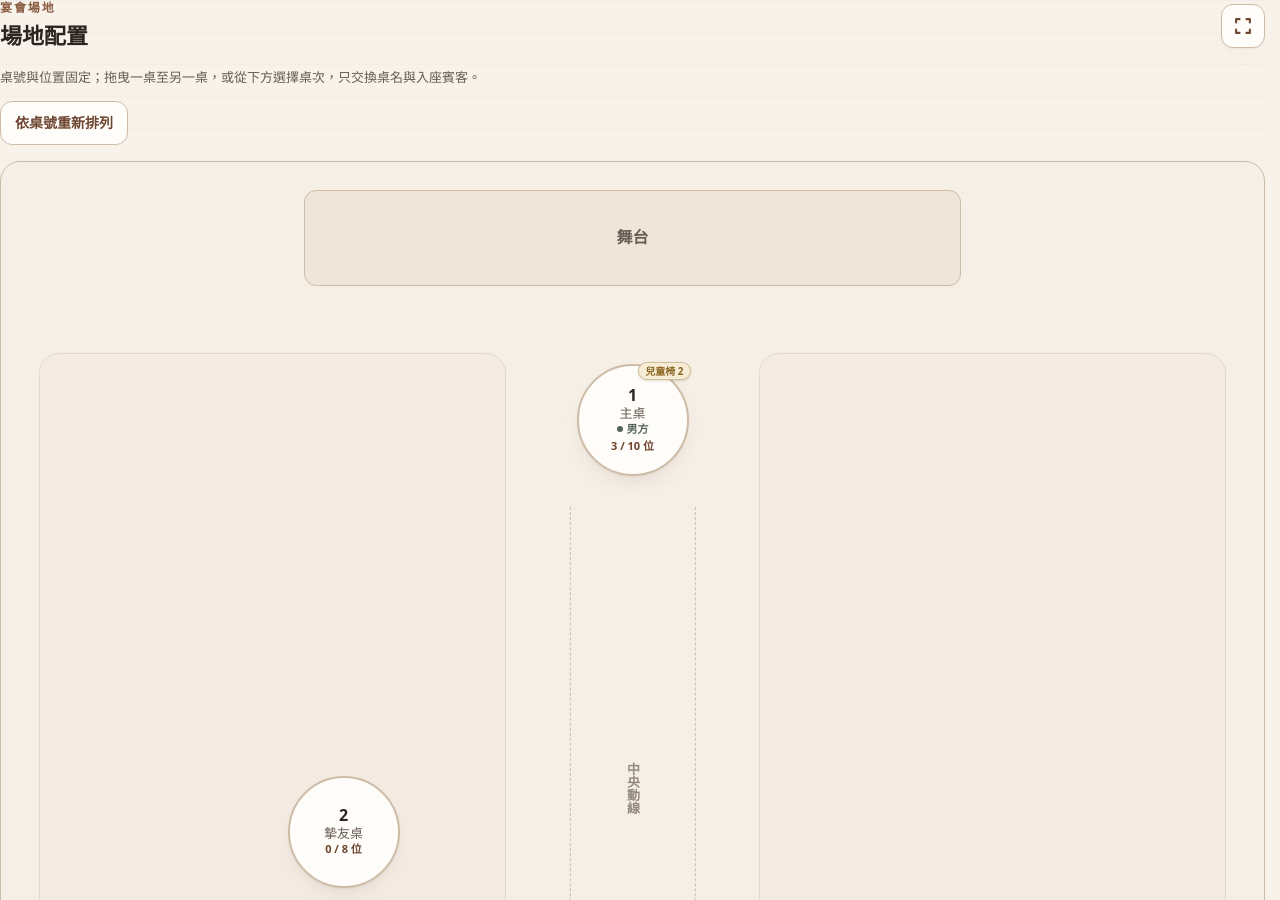
Test: SeatingFloorPlan › lets editors jump from the card to the table editor
Step 1. Click the button with aria-label "選取並拖曳交換 1 號桌 主桌" → coordinates (632, 420), box [578,366,686,474]
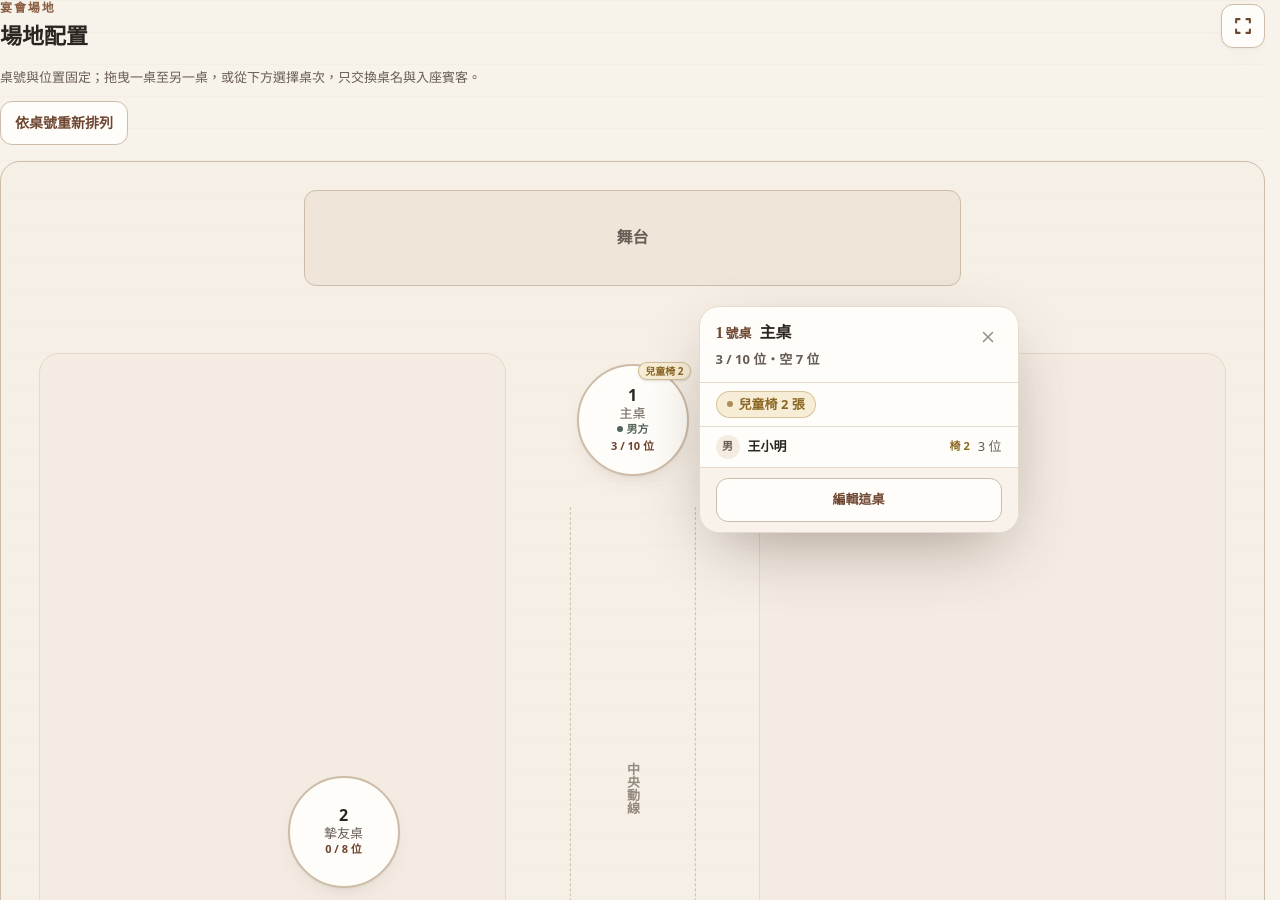
Step 2. Click the button "編輯這桌" → coordinates (858, 500), box [716,478,1002,522]
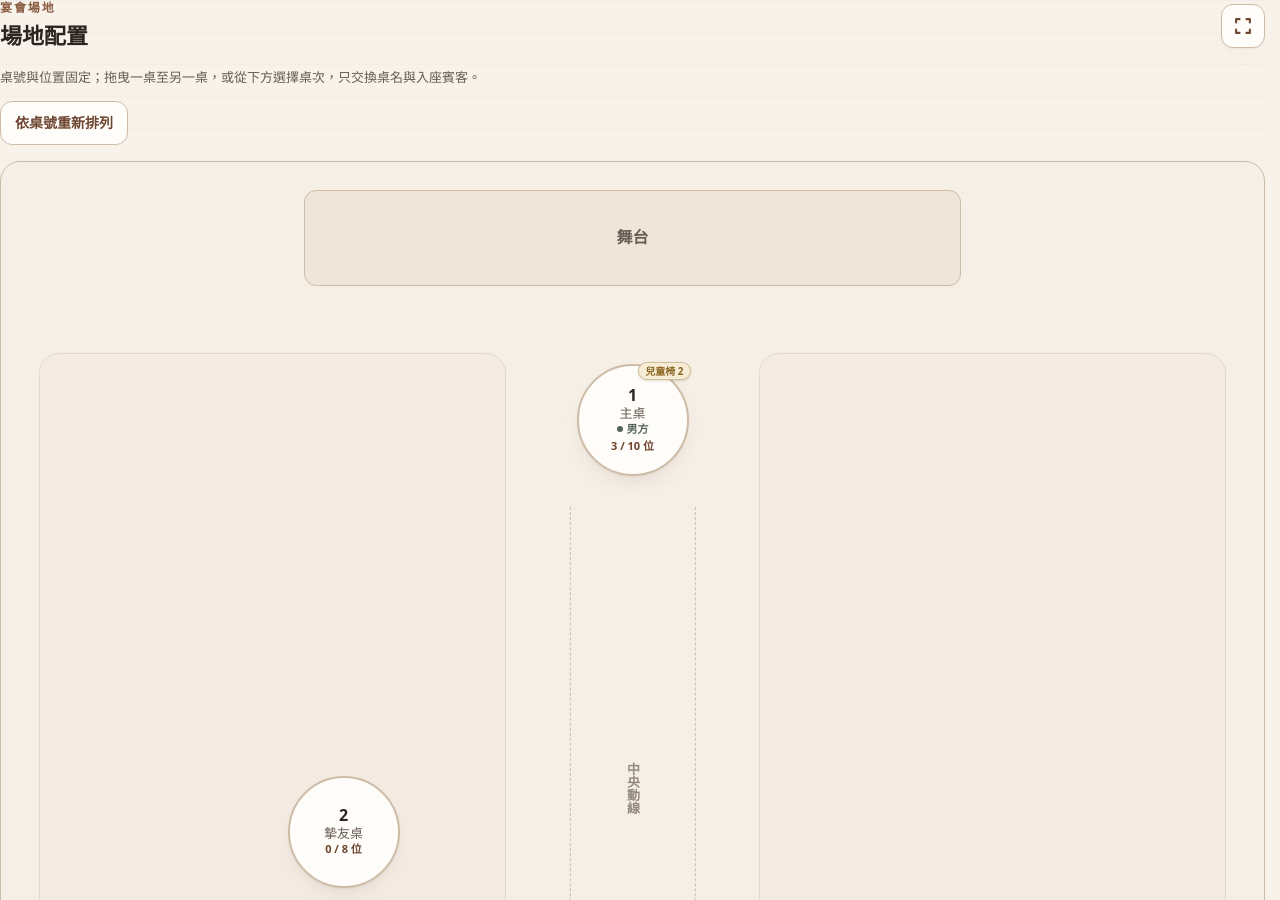
Result: the dialog is gone
